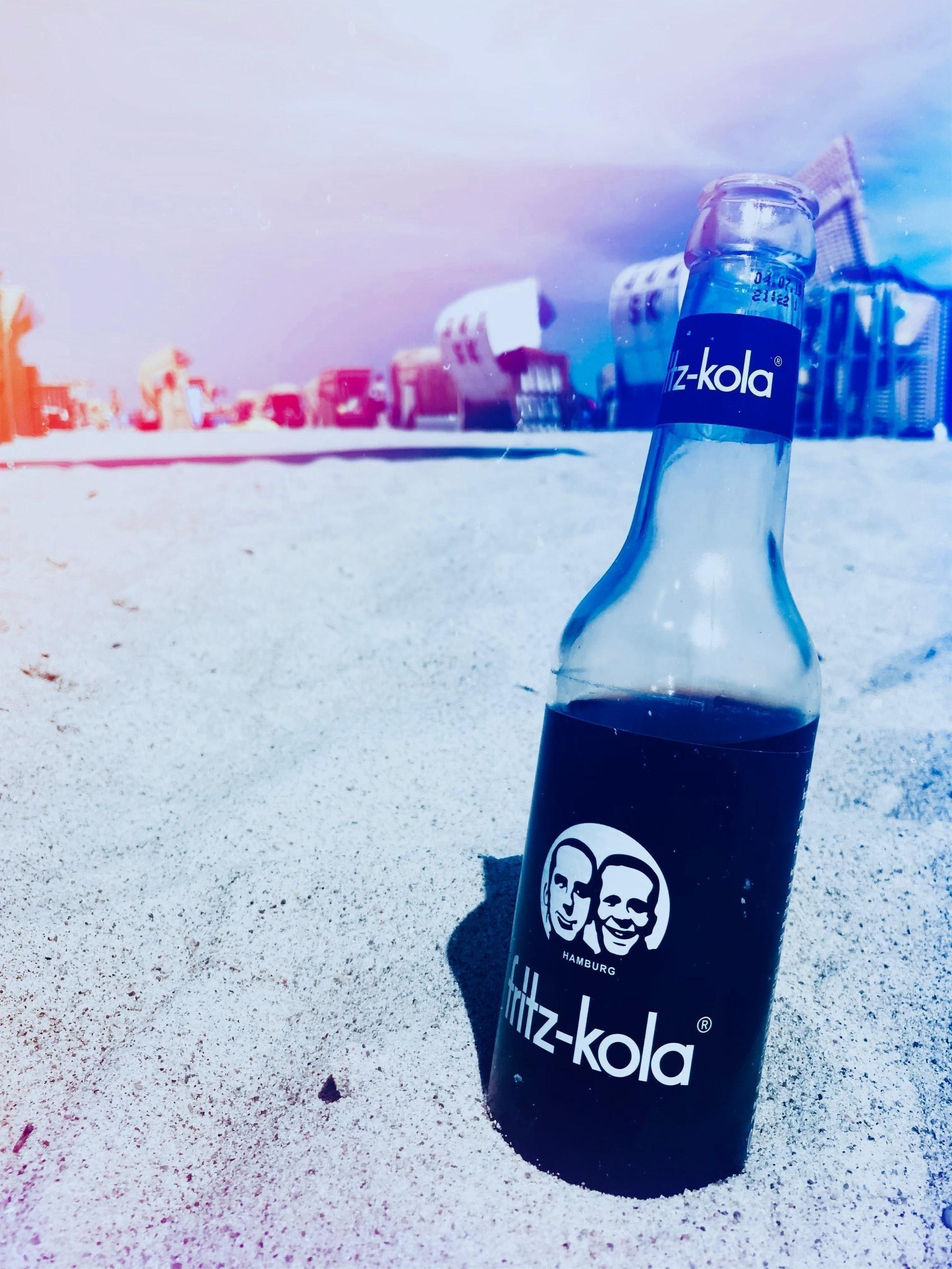bottle-glass: (479, 173, 830, 1200)
